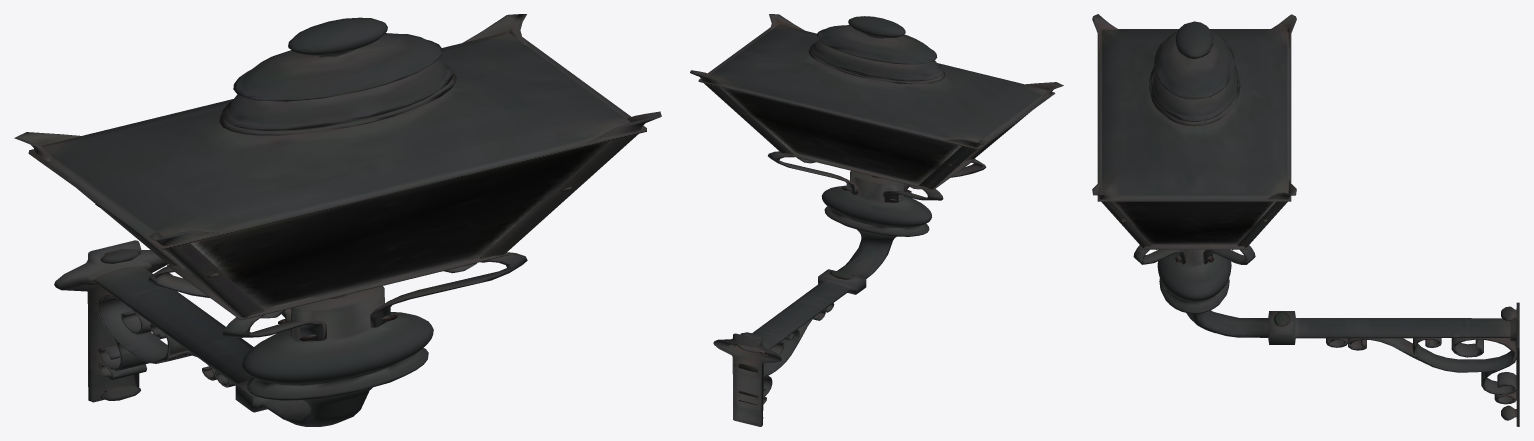
Rendered from ph-street-lamp-02.glb.
The picture shows the model from 3 angles, left to right: view 1: azimuth 30°, elevation 25°; view 2: azimuth 150°, elevation 25°; view 3: azimuth 270°, elevation 25°; orthographic projection. The views are drawn at different scales.
Visible parts, largest first — view 1: street_lamp_02; view 2: street_lamp_02; view 3: street_lamp_02.
Part boxes in pixels (<box>): street_lamp_02: <box>14,14,661,426</box>; street_lamp_02: <box>690,14,1063,426</box>; street_lamp_02: <box>1092,14,1519,426</box>.
Bounding box in the file's own units: 0.9993 × 0.9979 × 0.9998.
Materials: 2 (2 with a texture image).
